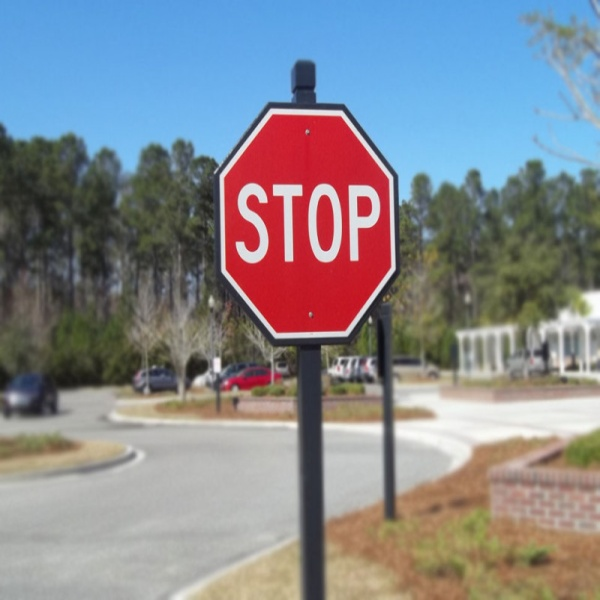stop: (216, 104, 413, 347)
